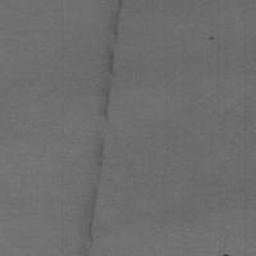Inclusion: (79, 141, 108, 256), (101, 47, 118, 124), (110, 0, 125, 41), (206, 35, 216, 41)
